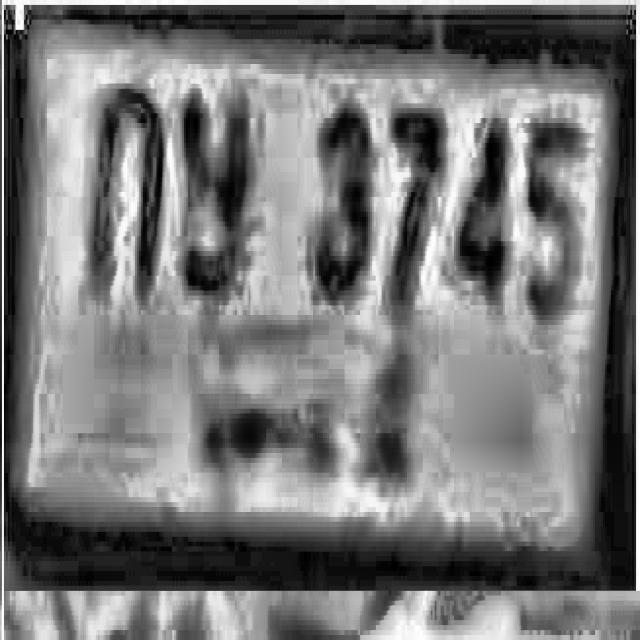license-plate: (0, 1, 640, 577)
